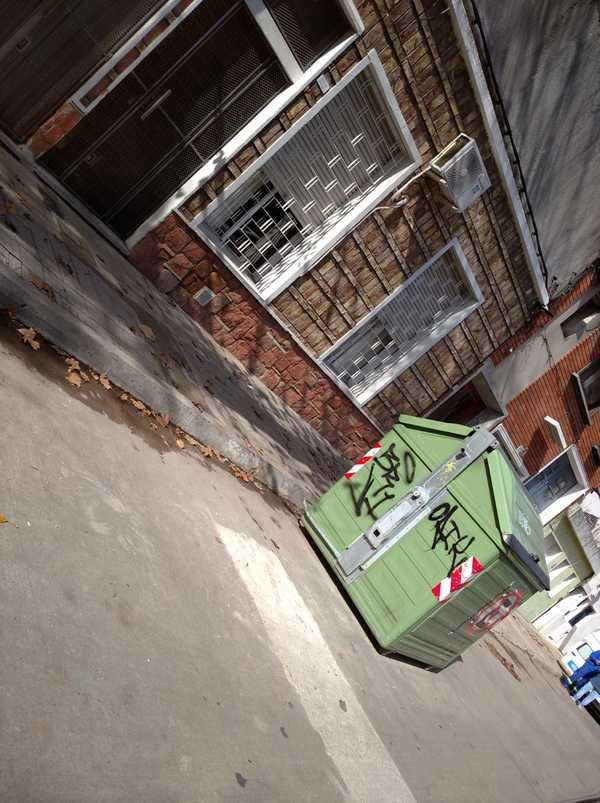Trash: (300, 415, 549, 670)
